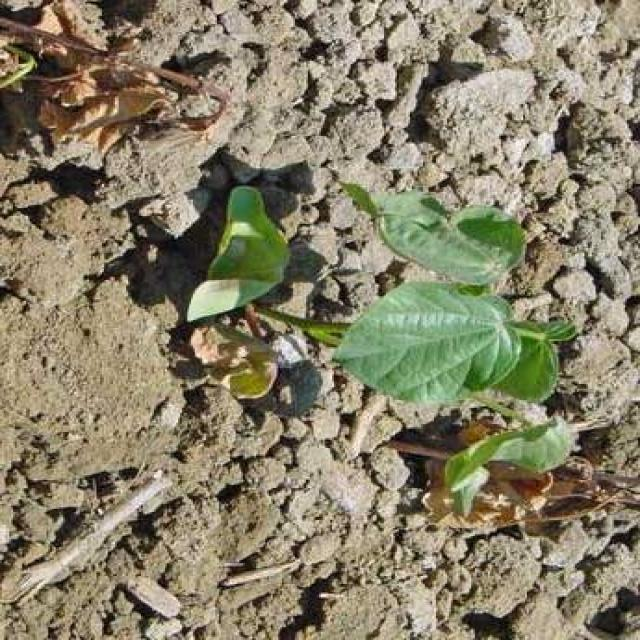Fusarium Wilt: (216, 179, 624, 540)
